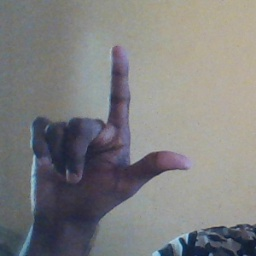L: (27, 43, 195, 221)
